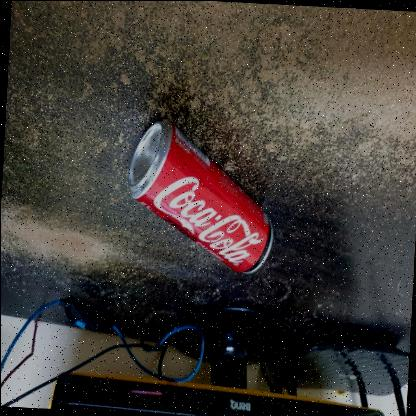Can: (117, 104, 281, 280)
